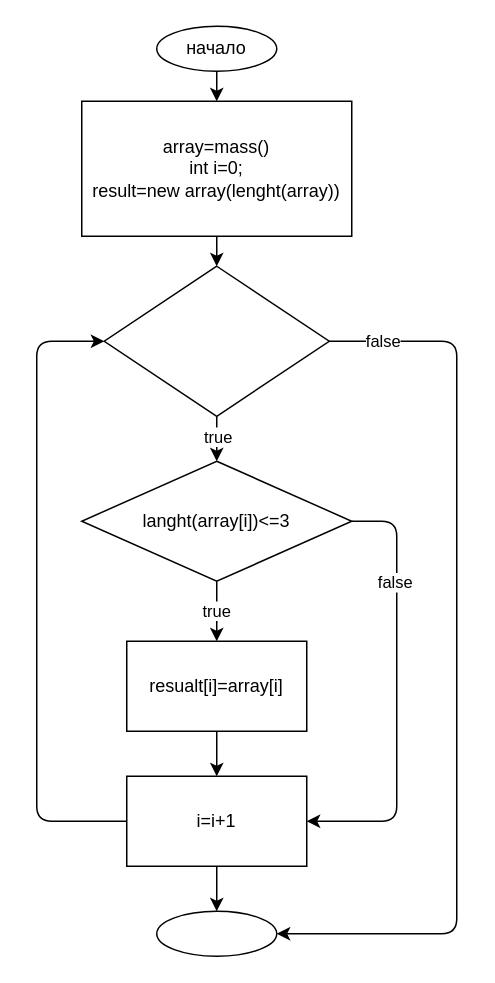
This 495x983 diagram has some shape labels left out. The shapes that lost their labels are listed below. From the top down, each one's box as (x1, y1, x2, y2) in pixels, then its label:
(103, 265, 329, 416): i<lenght(array)
(155, 910, 277, 956): конец
